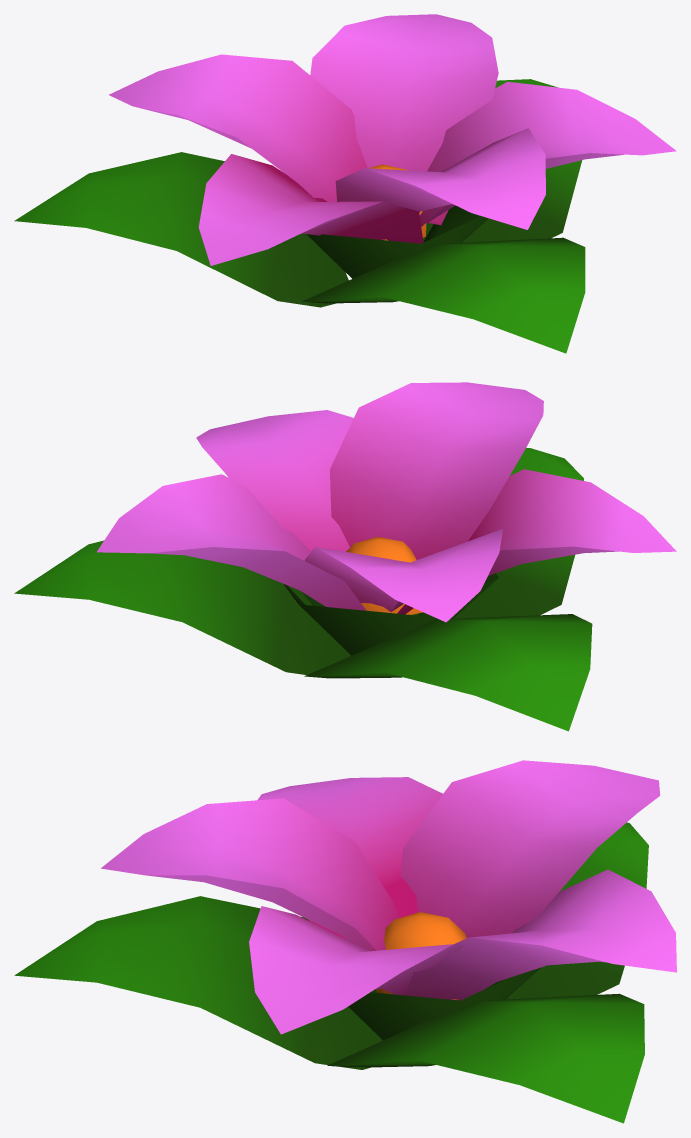
The model's file is Flower_Pink.fbx.
3 views of the same model, one above another, from view 1: azimuth 30°, elevation 25°; view 2: azimuth 150°, elevation 25°; view 3: azimuth 270°, elevation 25° (orthographic). The views are drawn at different scales.
Visible parts, largest first — view 1: Flower_Pink; view 2: Flower_Pink; view 3: Flower_Pink.
Boxes of the visible parts, box(x1,y1,x2,y2) form: Flower_Pink: box(14, 14, 676, 353); Flower_Pink: box(14, 382, 676, 731); Flower_Pink: box(14, 760, 676, 1123).
Size of the model in its own units: 12.49 by 4.25 by 11.65.
